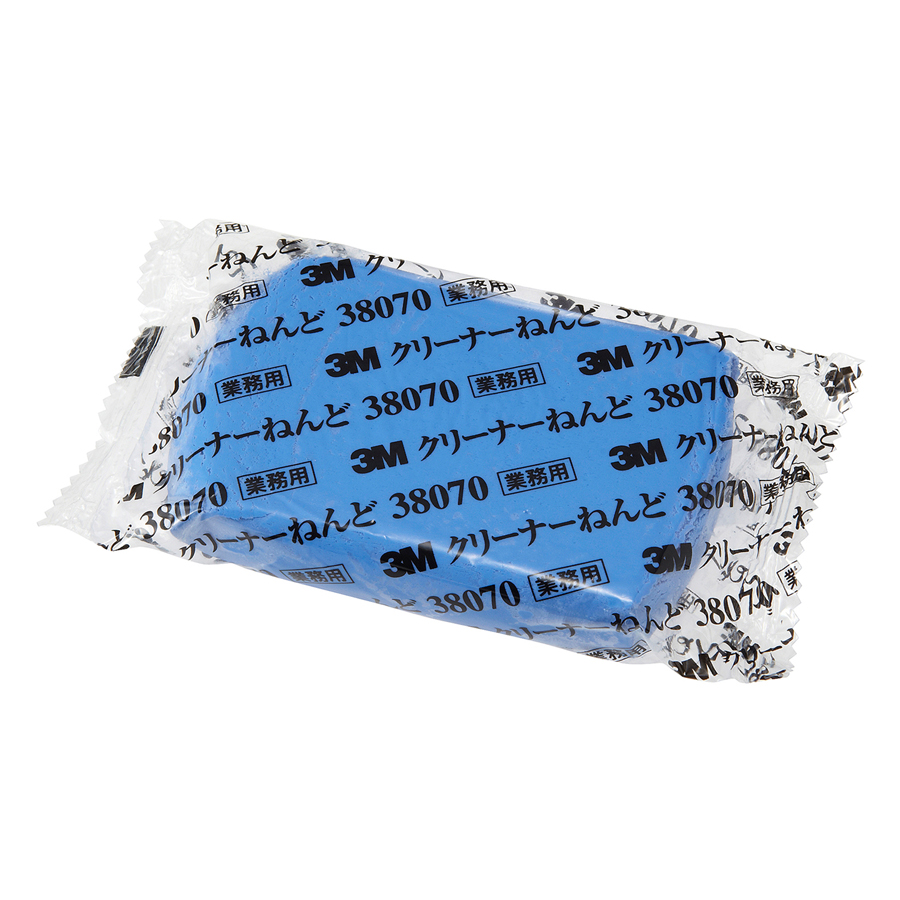3M: (372, 536, 440, 587), (601, 428, 672, 473), (568, 345, 644, 382), (295, 256, 366, 294), (636, 538, 700, 578), (320, 342, 387, 380), (347, 436, 413, 474)
